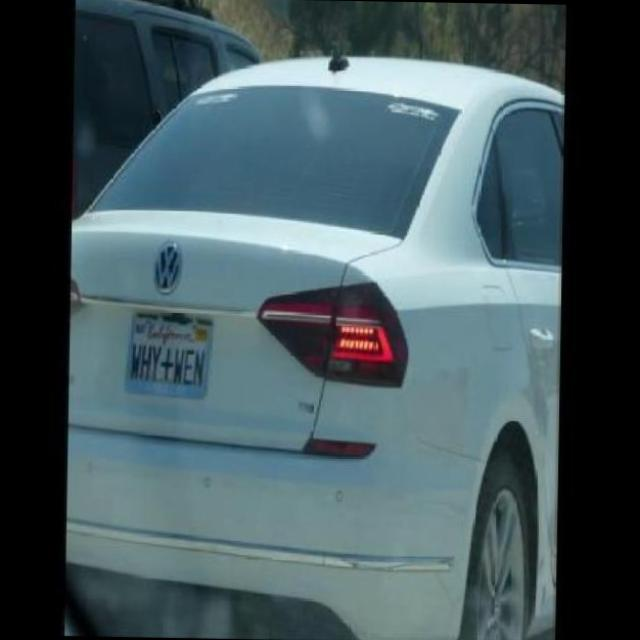LicensePlate: (124, 306, 214, 399)
